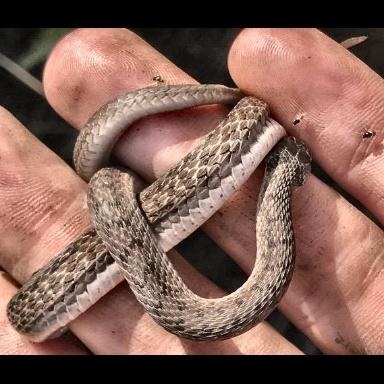snake: (6, 84, 312, 341)
